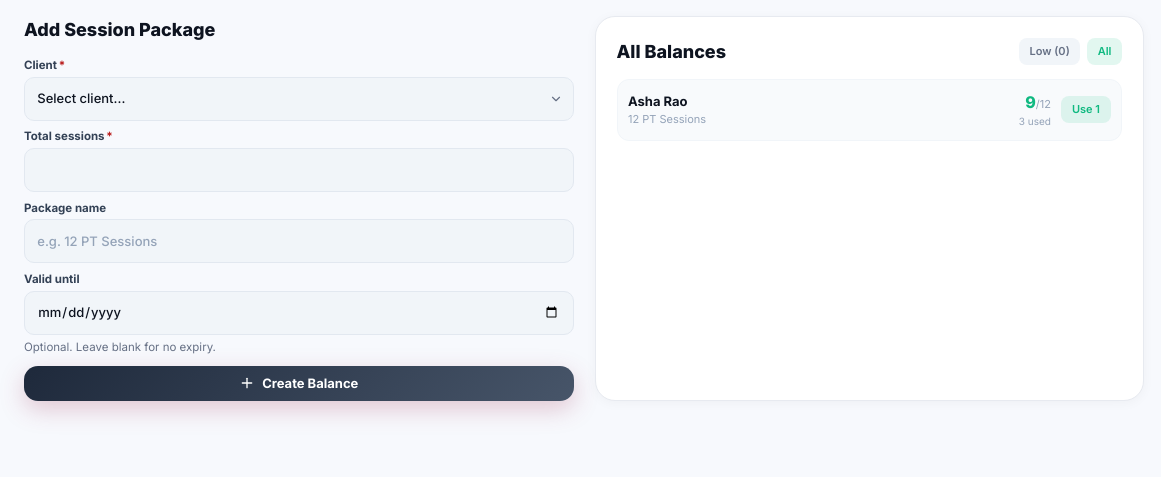
invalid input cannot trigger the mutation › blocks a blank client and a blank count
Click the button "Create Balance" at (299, 383), box [24,366,574,401]
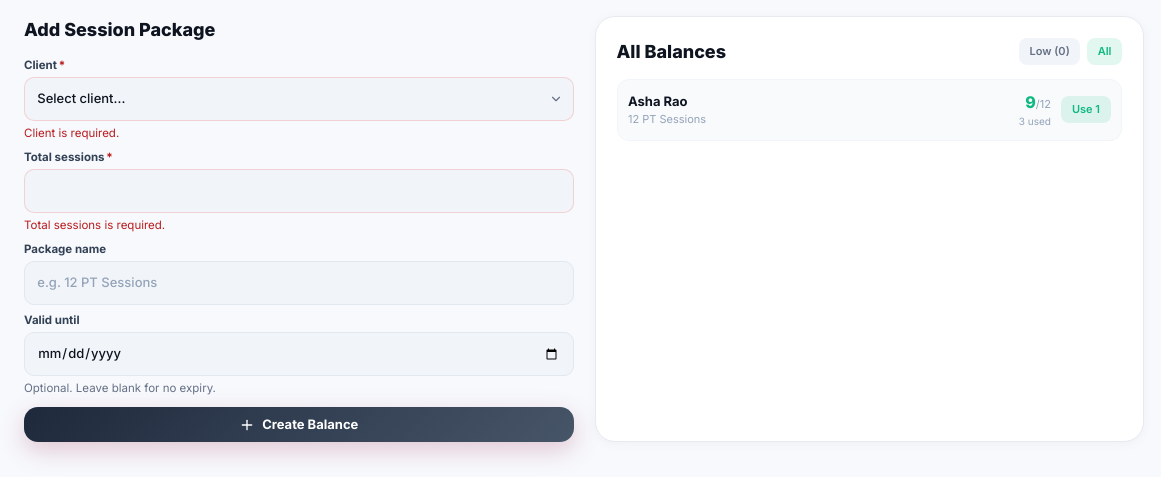
Now the text "Client is required." is shown, box [24,126,119,140]
Now the text "Total sessions is required." is shown, box [24,218,165,232]
